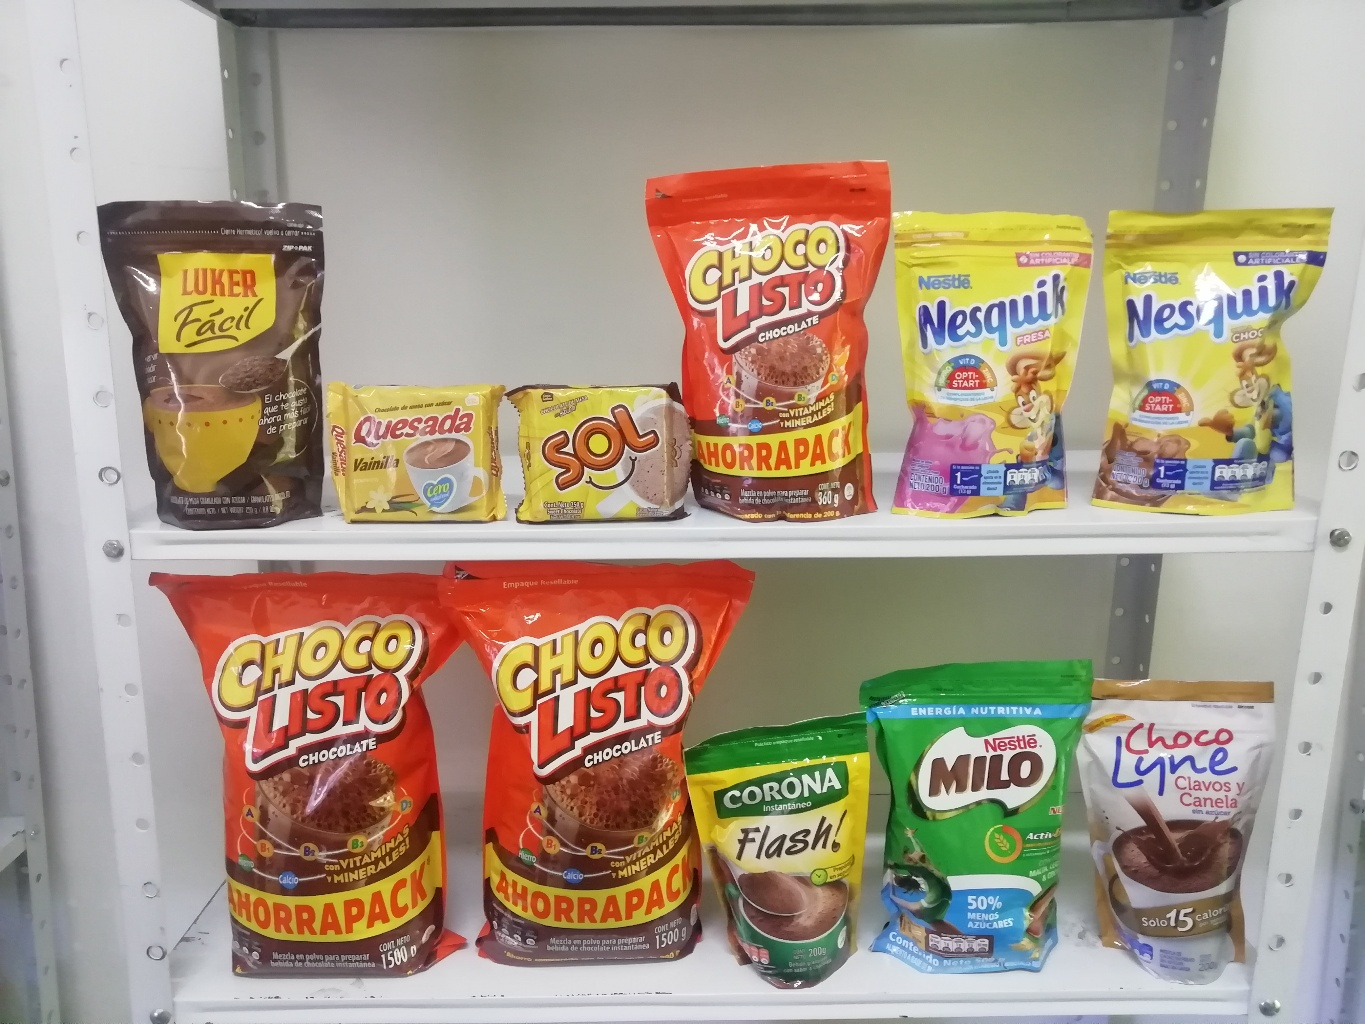COL0170103DYP1,500: (435, 557, 754, 963)
COL0170103DYP36000: (642, 162, 894, 518)
COL0170205DYP50000: (856, 653, 1093, 975)
COL0170303DYP20000: (1104, 205, 1335, 511)
COL0170305DYP20000: (888, 205, 1090, 517)
